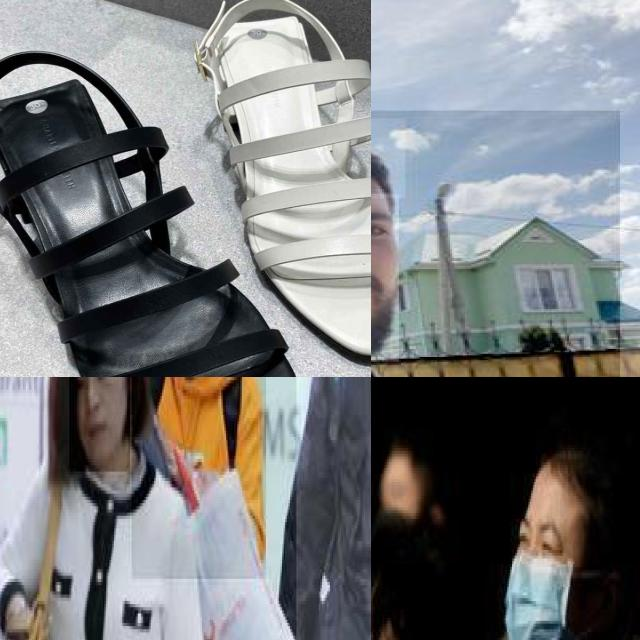No_Glasses: (371, 196, 407, 257)
Sandals: (0, 30, 339, 377), (173, 0, 371, 377)
face_mask: (502, 507, 579, 640)
face_nomask: (69, 377, 130, 471)
head_nohelmet: (522, 442, 603, 508)
person: (371, 110, 622, 377), (7, 377, 183, 640), (447, 436, 640, 640), (131, 377, 267, 582), (296, 377, 371, 640)
